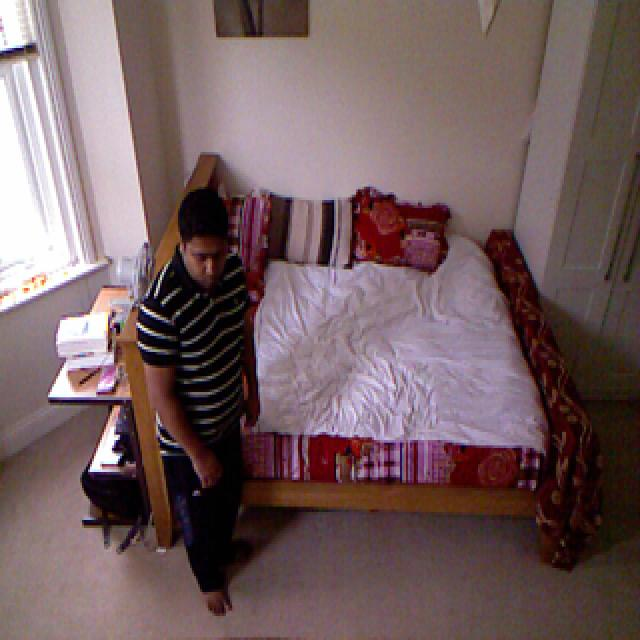standing: (130, 182, 268, 626)
